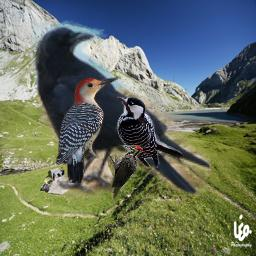Crow: (32, 19, 211, 201)
Woodpecker: (56, 77, 118, 183), (114, 94, 184, 168), (108, 145, 143, 202)
